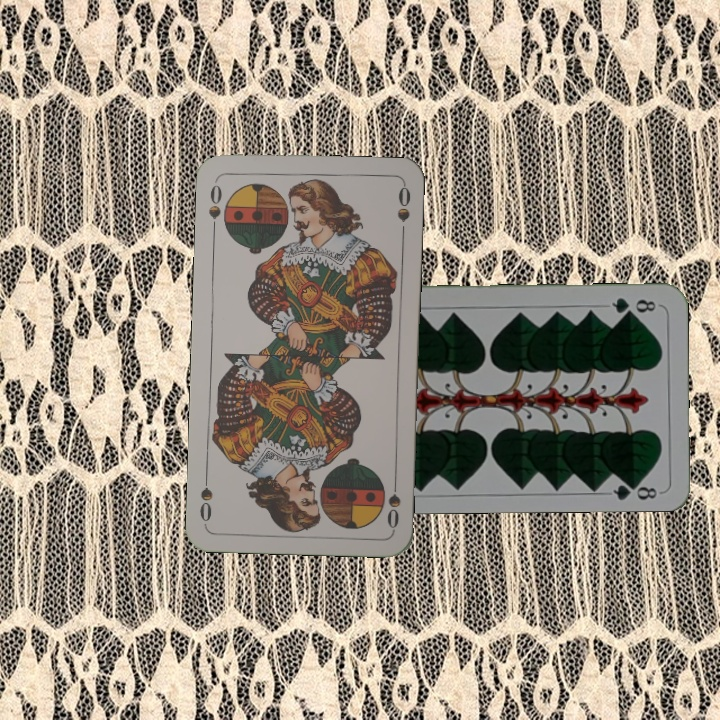G8: (608, 293, 659, 317)
SO: (382, 472, 403, 531), (205, 177, 225, 236)
